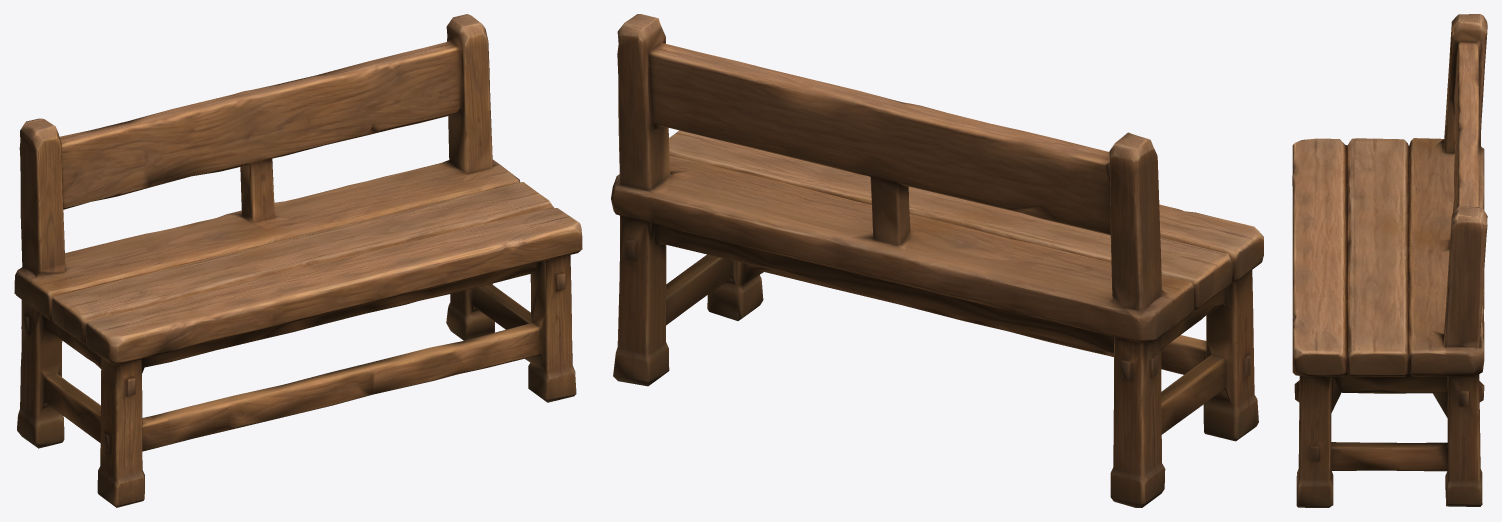
Rendered from vestibule-bench.glb.
3 renders of one model, left to right at view 1: azimuth 30°, elevation 25°; view 2: azimuth 150°, elevation 25°; view 3: azimuth 270°, elevation 25°, orthographic. The views are drawn at different scales.
Visible parts, largest first — view 1: vestibule-bench; view 2: vestibule-bench; view 3: vestibule-bench.
Part boxes in pixels (box(x1,y1,x2,y2)): vestibule-bench: box(14, 14, 582, 507); vestibule-bench: box(611, 14, 1263, 507); vestibule-bench: box(1292, 14, 1487, 507).
Size of the model in its own units: 1.3 by 0.82 by 0.5.
Materials: 1 (1 with a texture image).
